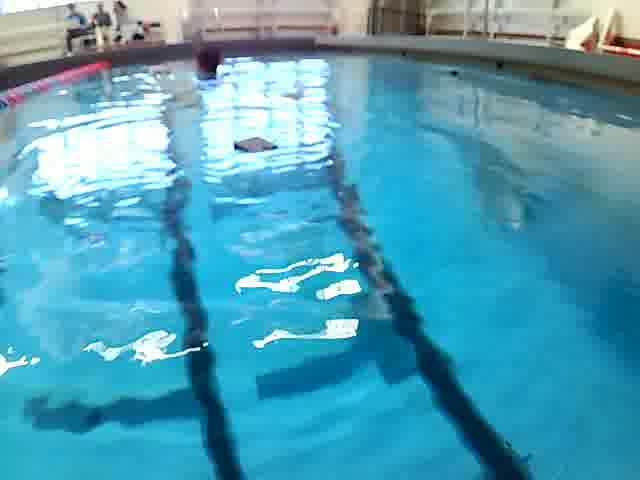CamMount: (232, 130, 280, 160)
